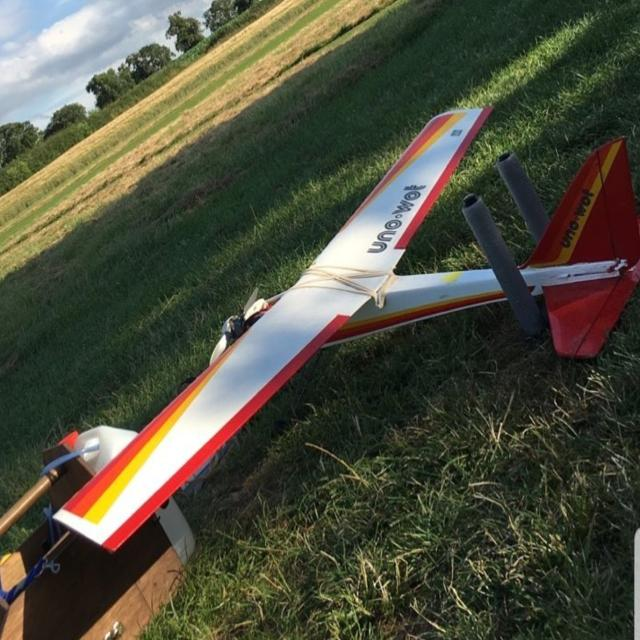iha: (4, 89, 640, 552)
